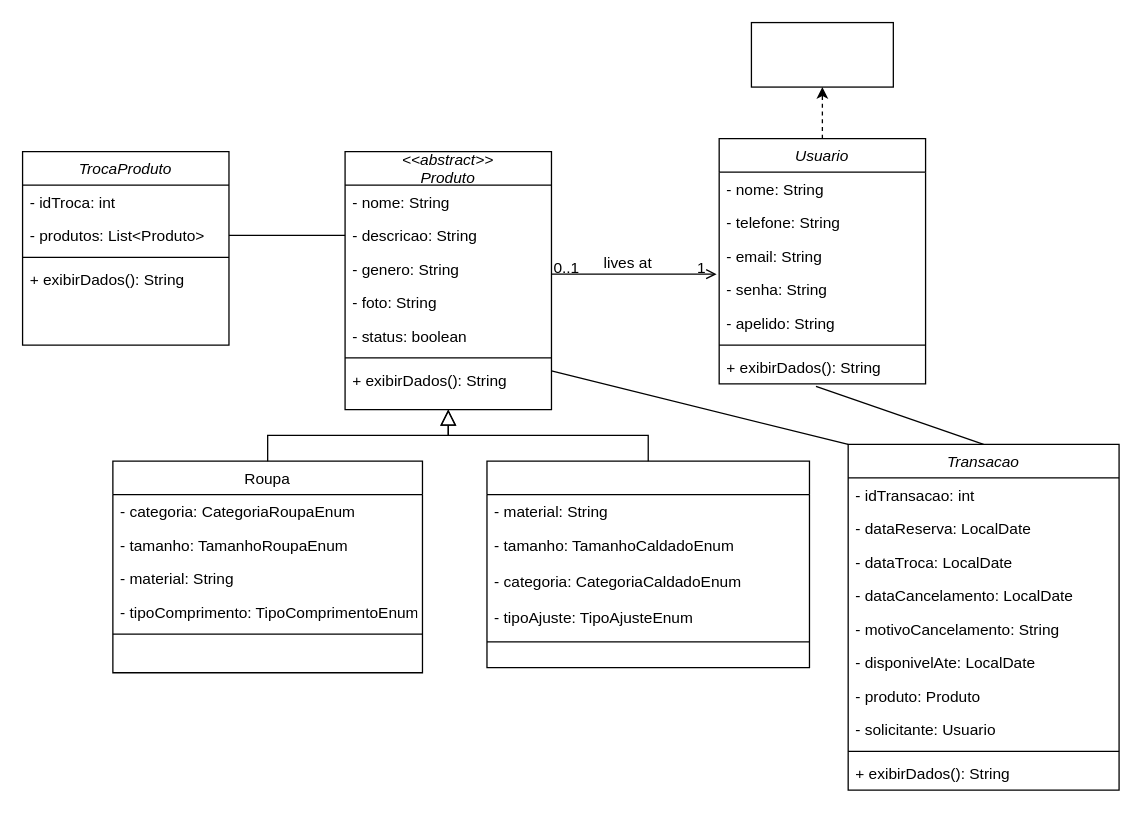
Some shapes in this 1142 by 817 pixel diagram are drawn without their labels. Each missing label, with the box of its shape:
Calcado: (486, 460, 809, 668)
«interface» Autenticavel: (750, 21, 893, 87)
